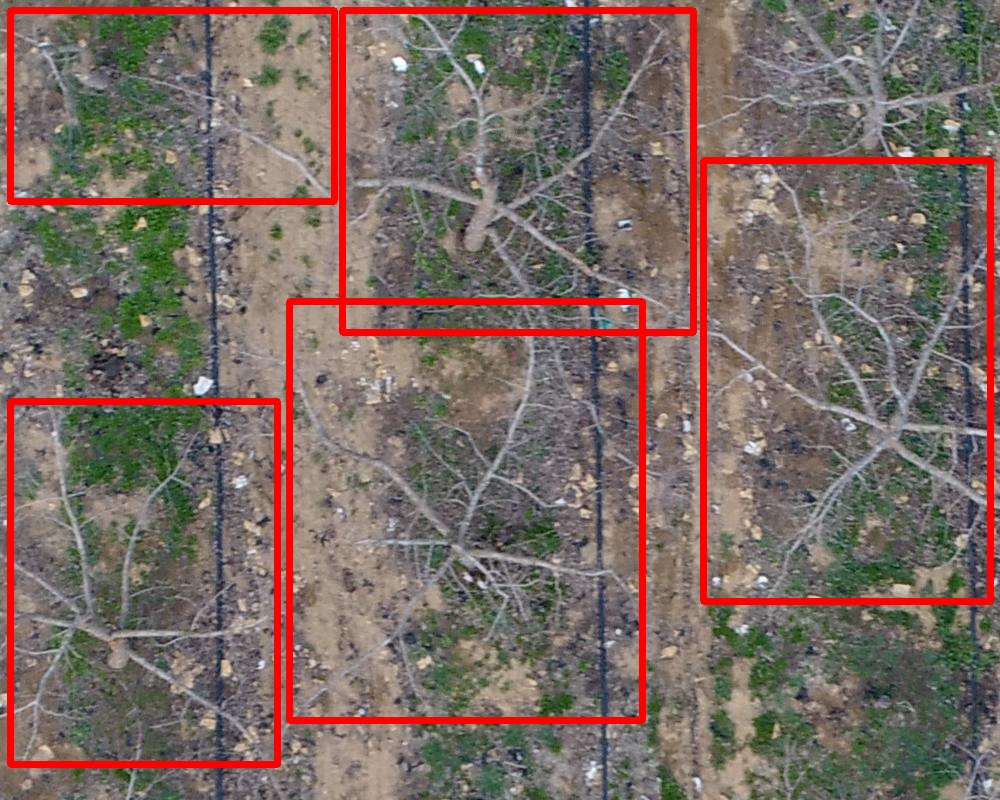apple: (289, 301, 642, 720), (703, 160, 990, 601), (342, 10, 693, 332), (10, 401, 277, 764), (10, 10, 334, 201)
